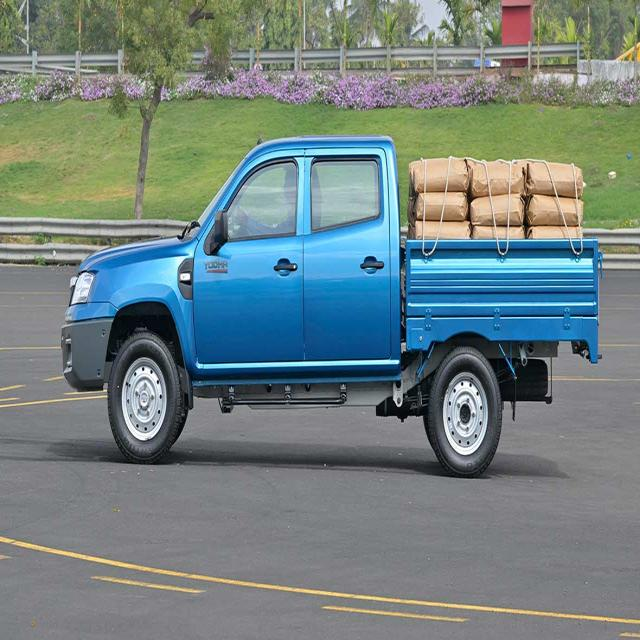light_vehicle: (65, 133, 598, 478)
